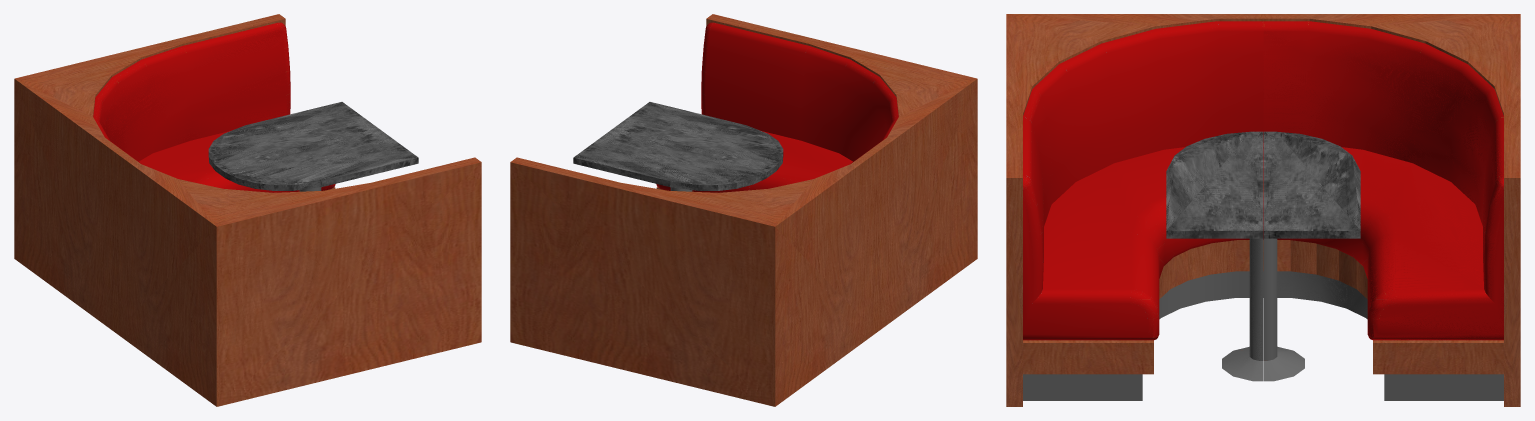
Rendered from kt_booths_01.fbx.
3 renders of one model, left to right at view 1: azimuth 30°, elevation 25°; view 2: azimuth 150°, elevation 25°; view 3: azimuth 270°, elevation 25°, orthographic. The views are drawn at different scales.
Parts seen in each view (by area): view 1: kt_booths_01_LOD0; view 2: kt_booths_01_LOD0; view 3: kt_booths_01_LOD0.
Boxes of the visible parts, <box> form: kt_booths_01_LOD0: <box>14,14,481,406</box>; kt_booths_01_LOD0: <box>510,14,977,406</box>; kt_booths_01_LOD0: <box>1006,14,1520,406</box>.
Size of what is drawn, in the model's own units: 1.4 by 0.91 by 1.85.
Materials: 1 (1 with a texture image).
